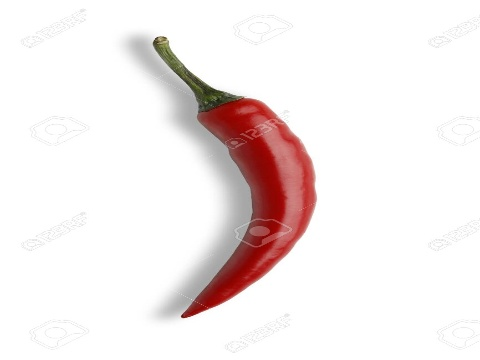Chilli: (130, 27, 349, 333)
